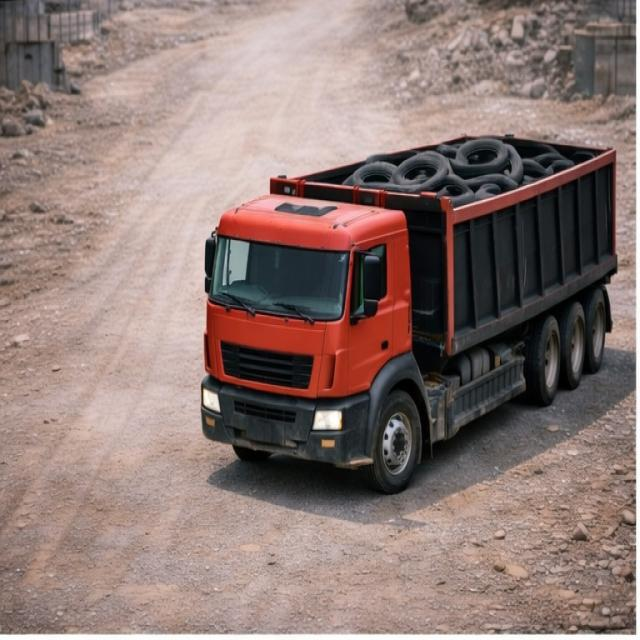Box: (268, 128, 624, 220)
Truck: (169, 96, 628, 543)
